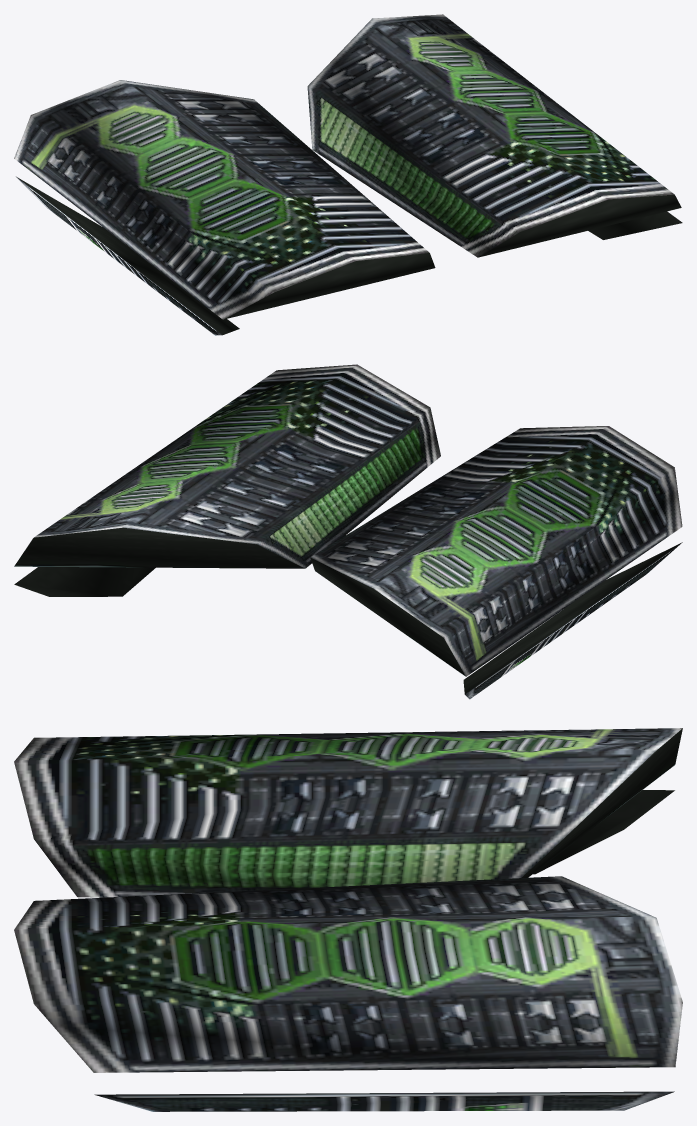
File: LegPads7__VTX.glb
3 views of the same model, one above another, from view 1: azimuth 30°, elevation 25°; view 2: azimuth 150°, elevation 25°; view 3: azimuth 270°, elevation 25° (orthographic). The views are drawn at different scales.
Visible parts, largest first — view 1: LegPads7; view 2: LegPads7; view 3: LegPads7.
Part boxes in pixels (bbox=[...]): LegPads7: bbox=[14, 14, 682, 335]; LegPads7: bbox=[14, 364, 682, 699]; LegPads7: bbox=[14, 728, 682, 1111].
Bounding box in the file's own units: 20.86 × 4.9 × 19.26.
1 material, 1 textured.
